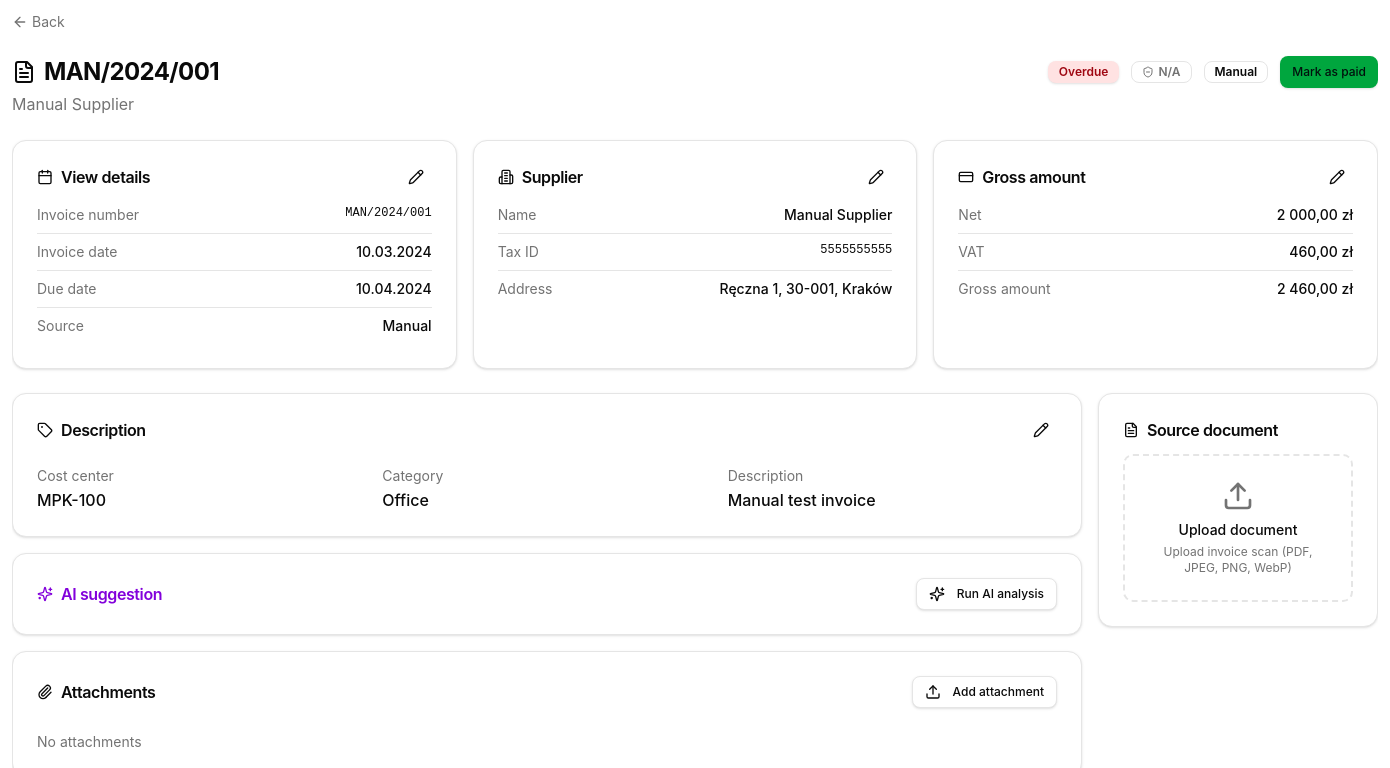
InvoiceDetailPage – Invoice Edit › shows edit form when edit button is clicked
Click the button without text in the row of "View details" at (416, 177), box [400, 165, 432, 189]
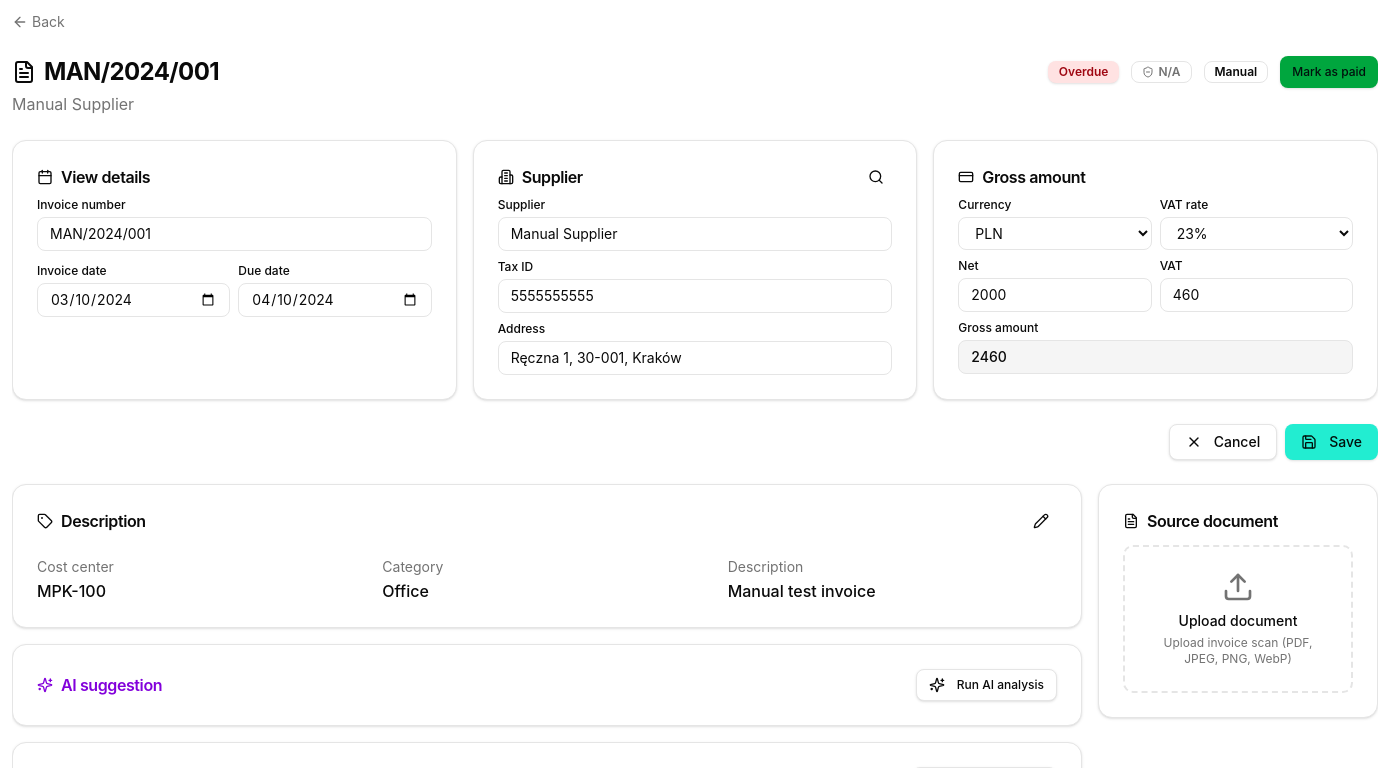
Now the field showing "Manual Supplier" is shown, box [498, 217, 892, 251]
Now the field showing "5555555555" is shown, box [498, 279, 892, 313]
Now the field showing "MAN/2024/001" is shown, box [37, 217, 432, 251]
